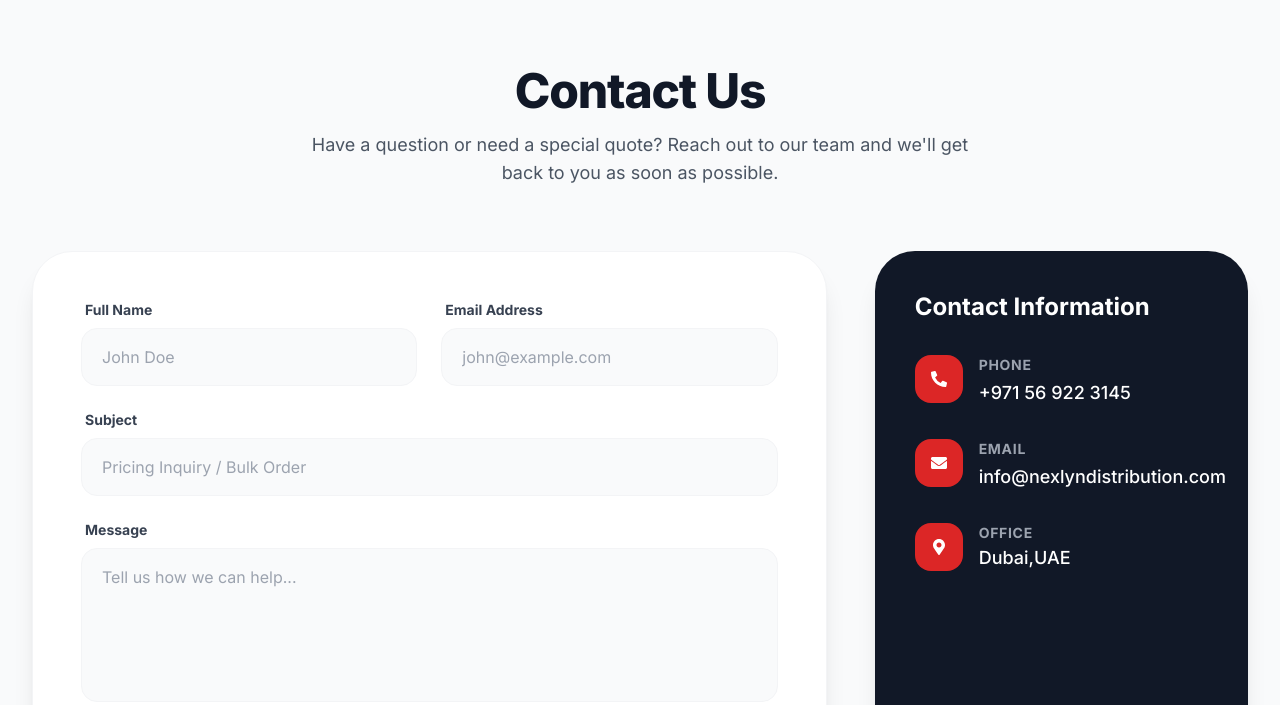
ContactPage Form › successfully submits the form and shows toast
In the field with placeholder "John Doe": (249, 357) [81,328,417,386], type "Jane Doe"
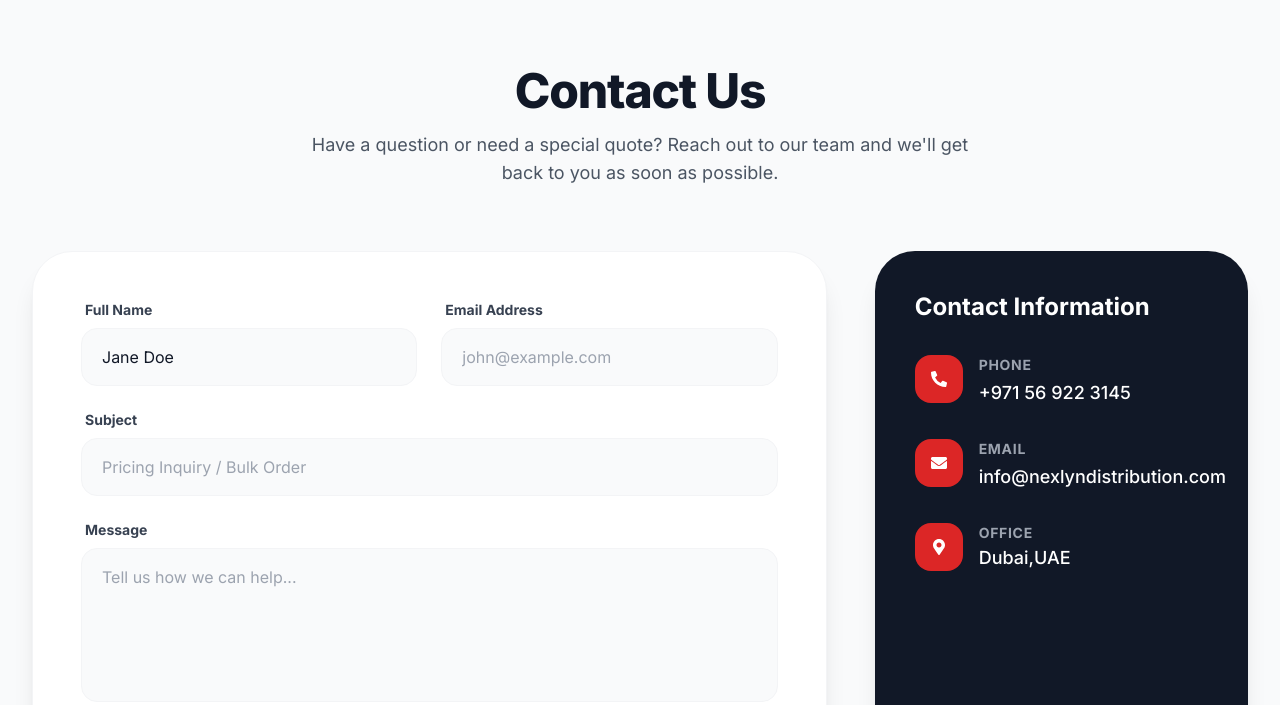
In the field with placeholder "john@example.com": (609, 357) [441,328,778,386], type "jane@example.com"
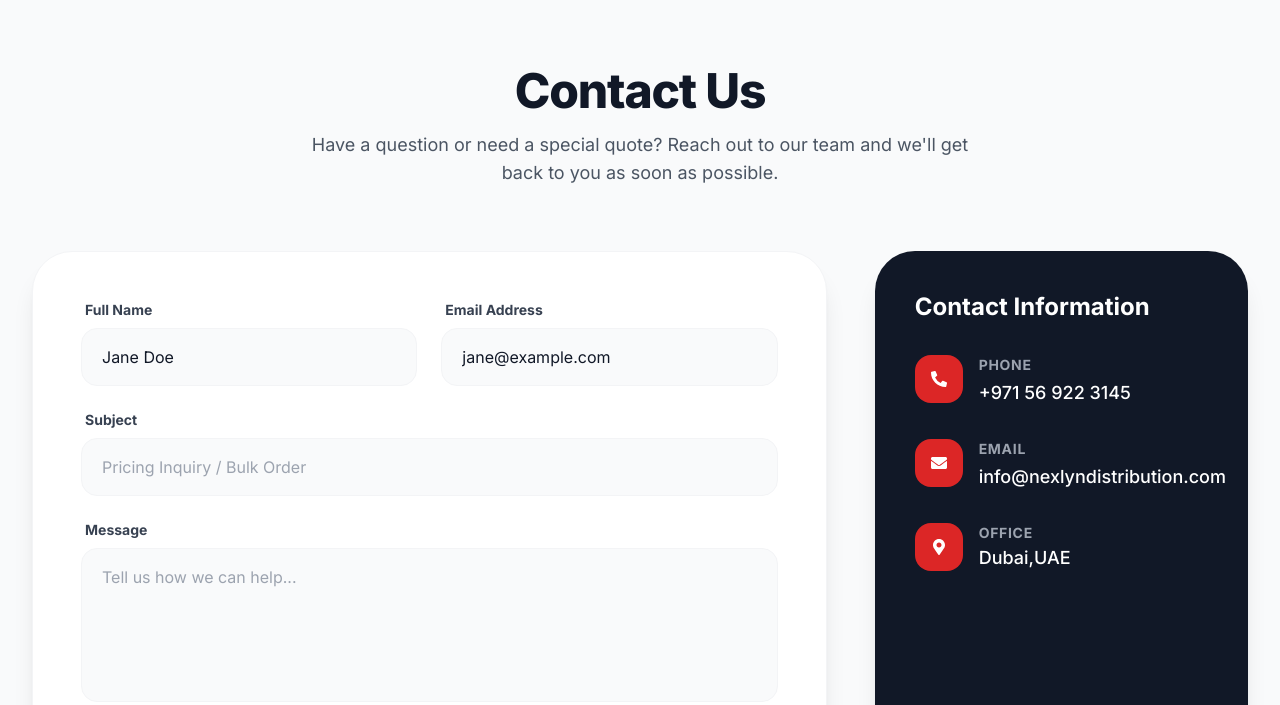
In the field with placeholder "Pricing Inquiry / Bulk Order": (429, 467) [81,438,778,496], type "Question"
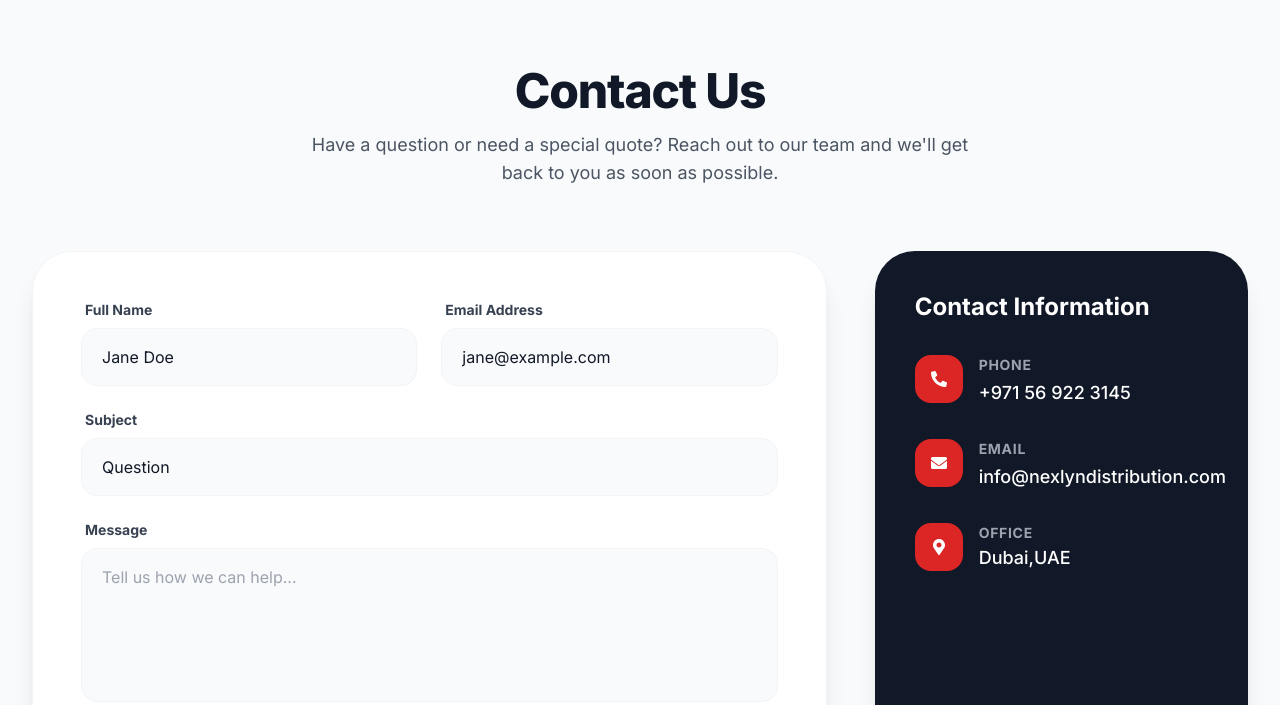
In the text box with placeholder "Tell us how we can help...": (429, 625) [81,548,778,702], type "This is a long enough message for testing."
(page scrolled)
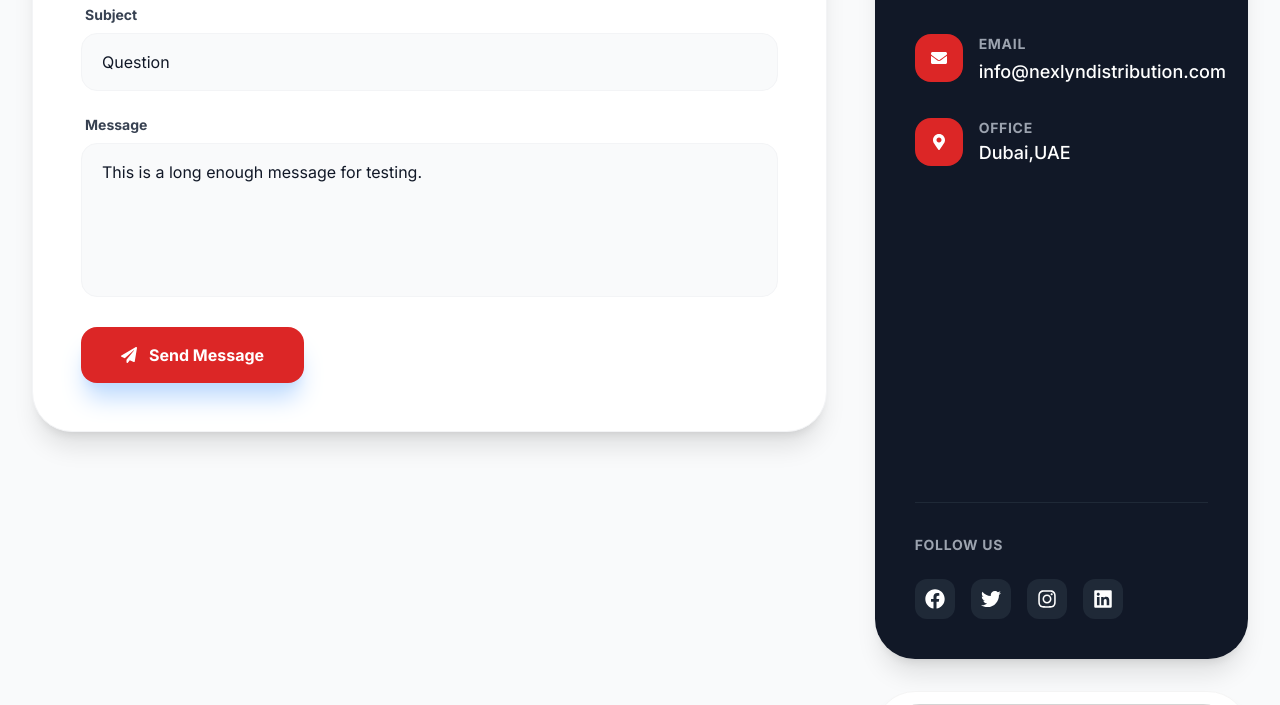
Click the button "Send Message": (193, 355) [81,327,304,383]
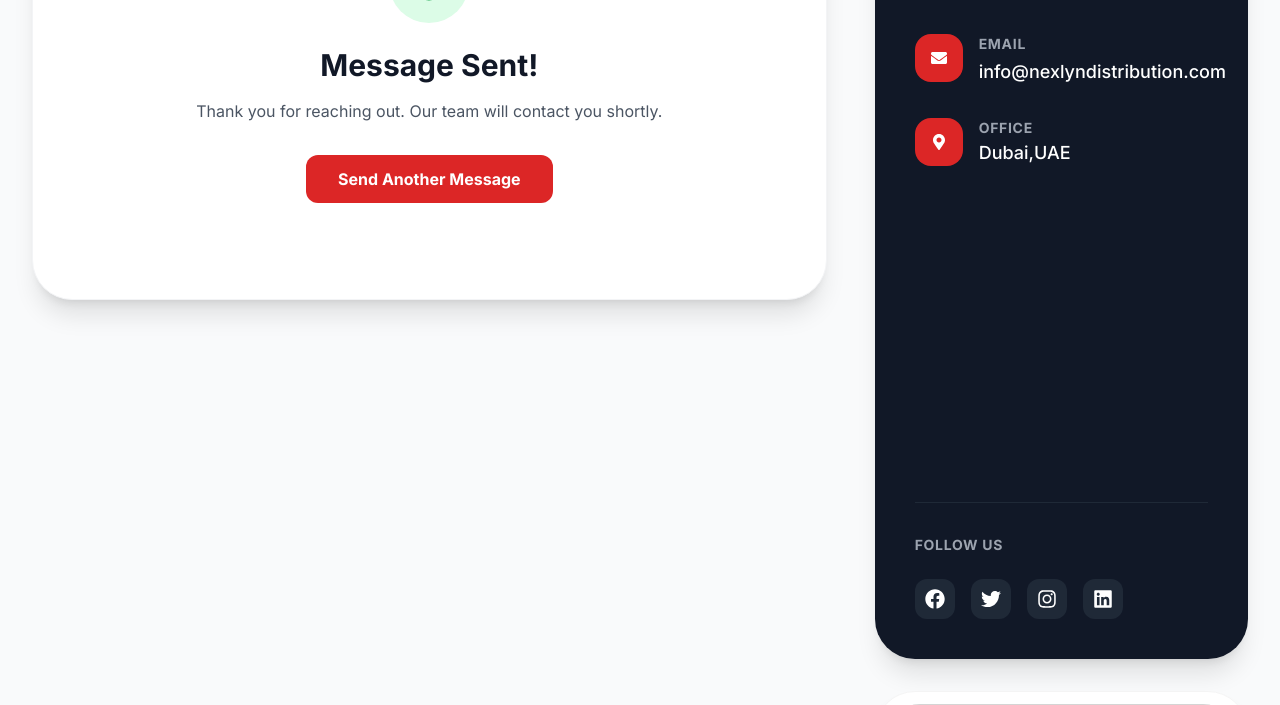
Now the heading "Message Sent!" is shown, box [320,47,538,83]
